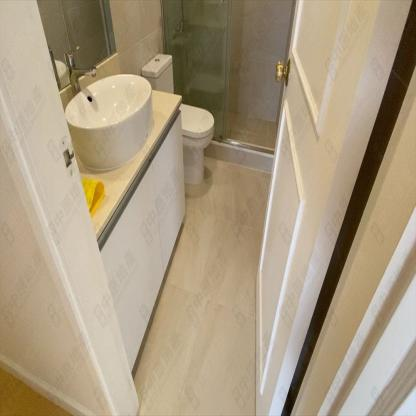Faucet: (62, 40, 98, 91)
Toilet: (181, 101, 215, 190), (141, 52, 174, 92)
Toilet Sink: (64, 73, 153, 176)
Water Cubicle: (160, 1, 230, 142)
